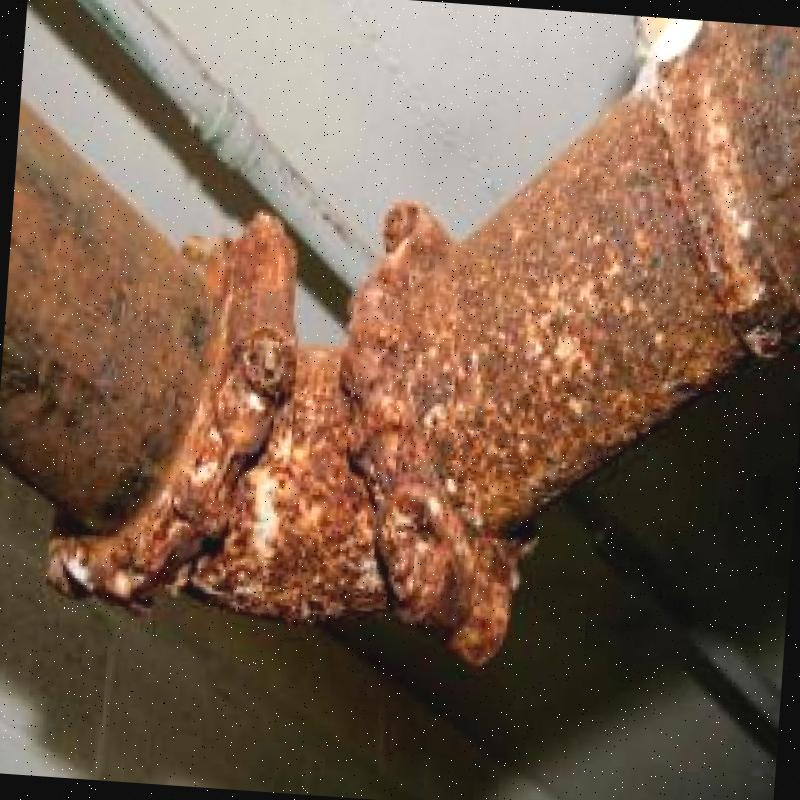corrosion: (100, 286, 440, 596), (454, 222, 726, 477), (433, 508, 531, 658)
